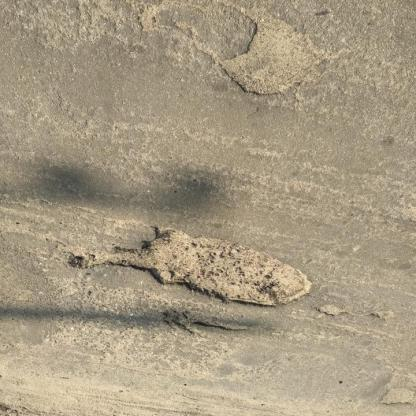pothole: (67, 226, 316, 312), (220, 7, 318, 99), (162, 308, 254, 338), (379, 387, 416, 411), (319, 305, 350, 320)
